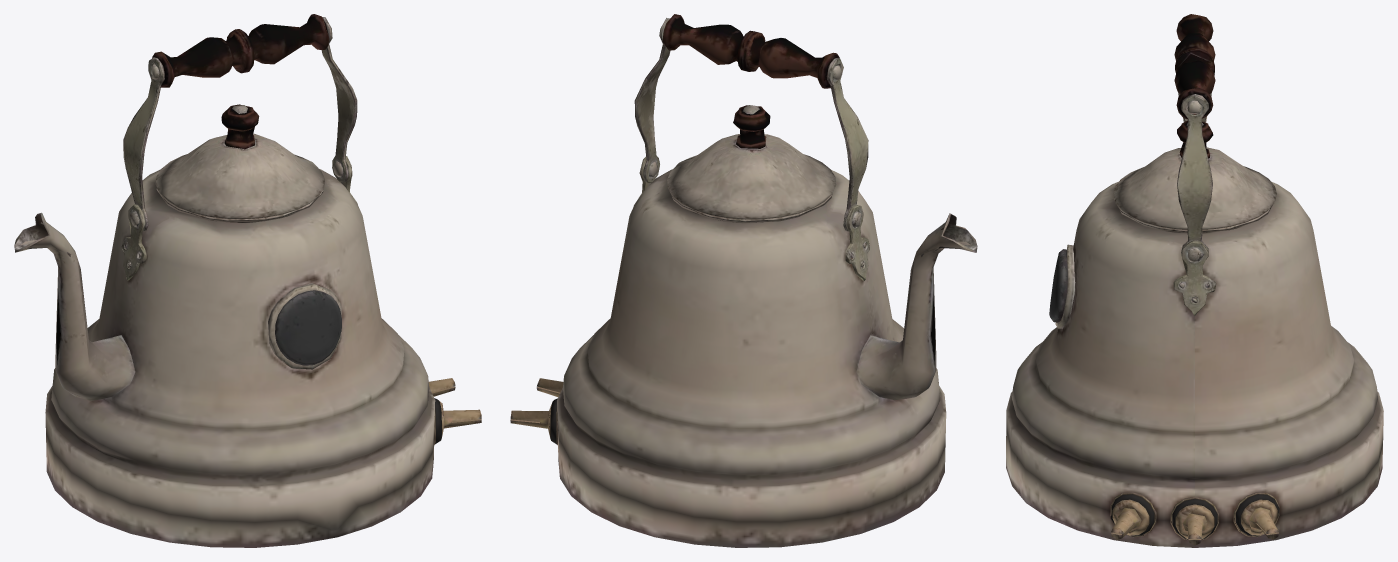
File: vintage_electric_kettle.glb
The picture shows the model from 3 angles, left to right: view 1: azimuth 30°, elevation 25°; view 2: azimuth 150°, elevation 25°; view 3: azimuth 270°, elevation 25°; orthographic projection. The views are drawn at different scales.
Visible parts, largest first — view 1: vintage_electric_kettle; view 2: vintage_electric_kettle; view 3: vintage_electric_kettle.
Boxes of the visible parts, box(x1,y1,x2,y2) form: vintage_electric_kettle: box(14, 14, 481, 547); vintage_electric_kettle: box(510, 14, 977, 547); vintage_electric_kettle: box(1006, 14, 1383, 547).
Size of the model in its own units: 0.3201 by 0.3044 by 0.2478.
Materials: 2 (2 with a texture image).
